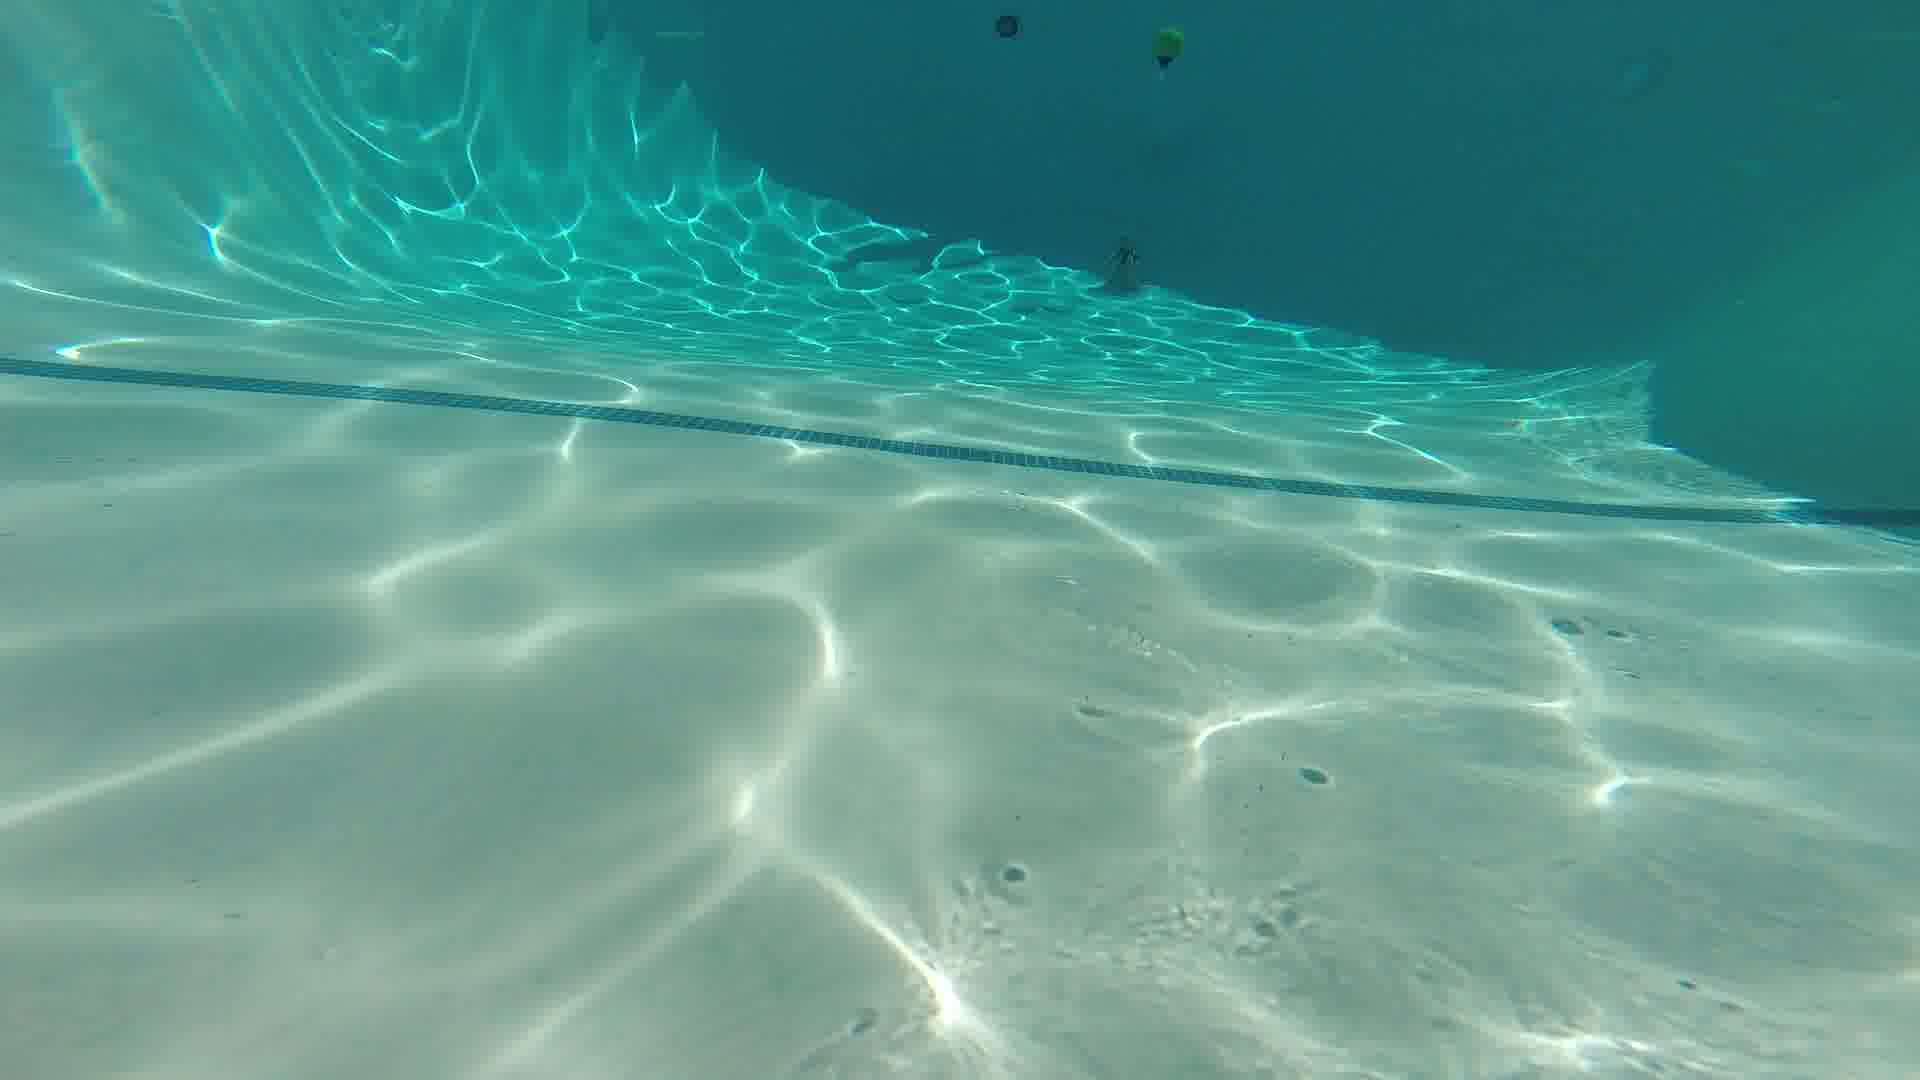yellow_buoy: (1146, 17, 1185, 86)
